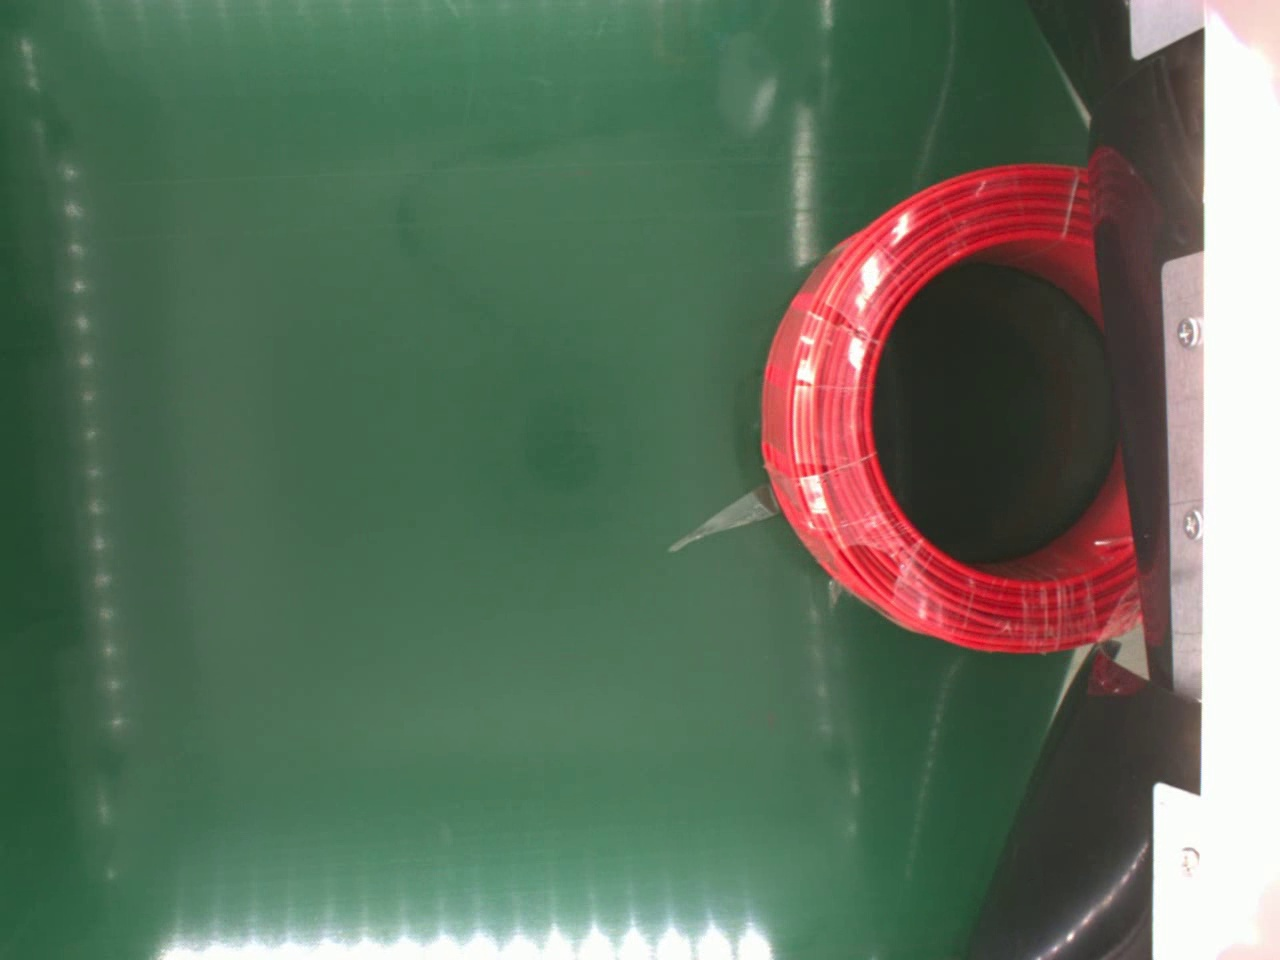red: (758, 164, 1143, 653)
